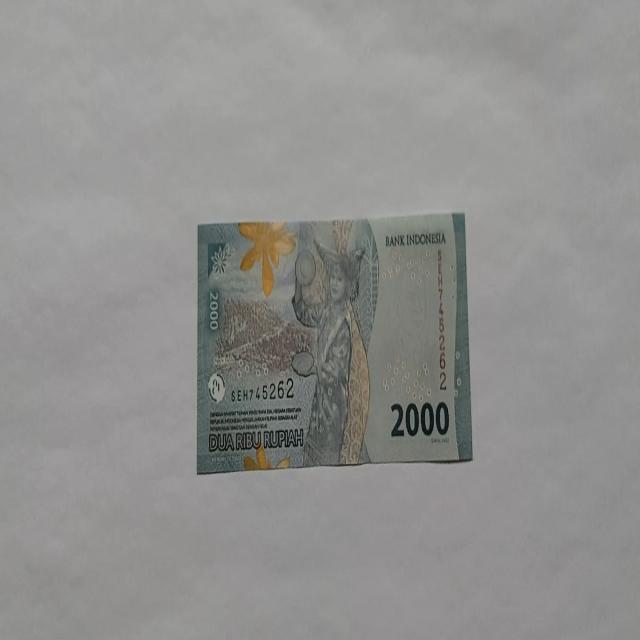dua ribu rupiah: (195, 211, 472, 473), (290, 234, 371, 466)
